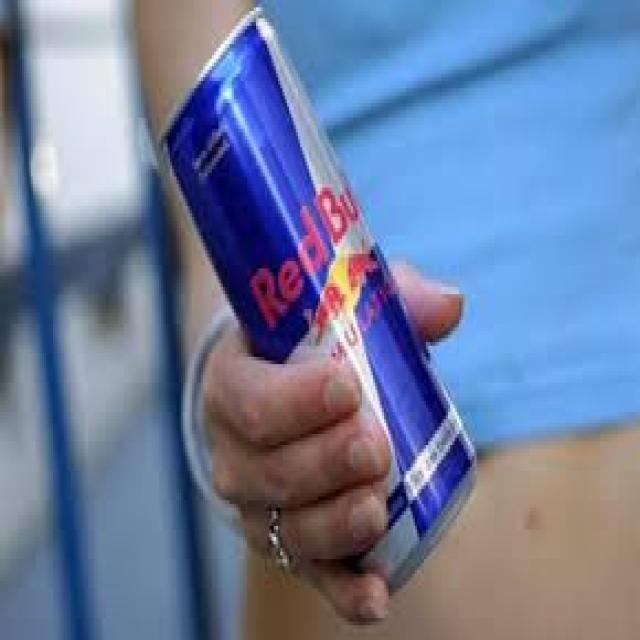red-bull: (154, 0, 487, 610)
